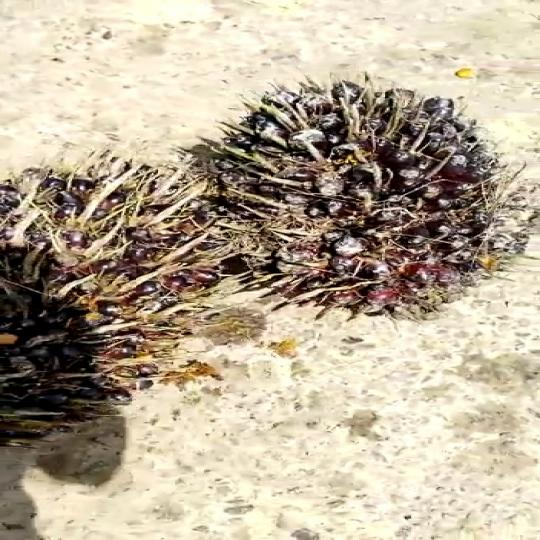mentah: (182, 76, 540, 329), (0, 144, 236, 453)
